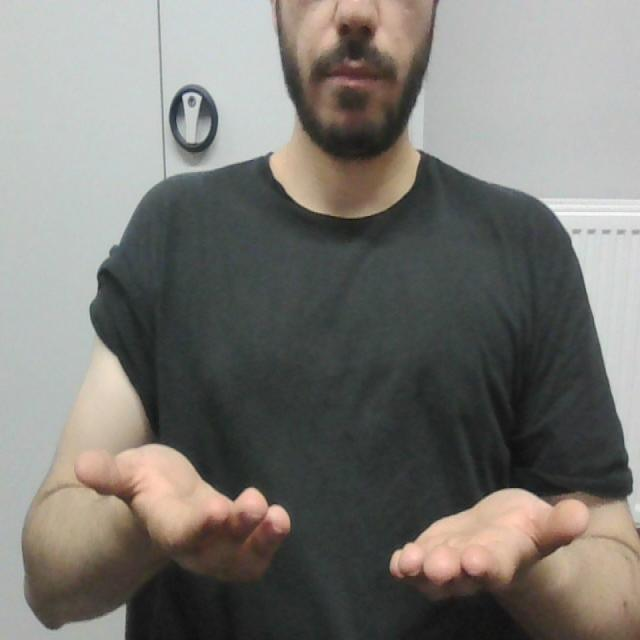Evet: (71, 437, 595, 606)
